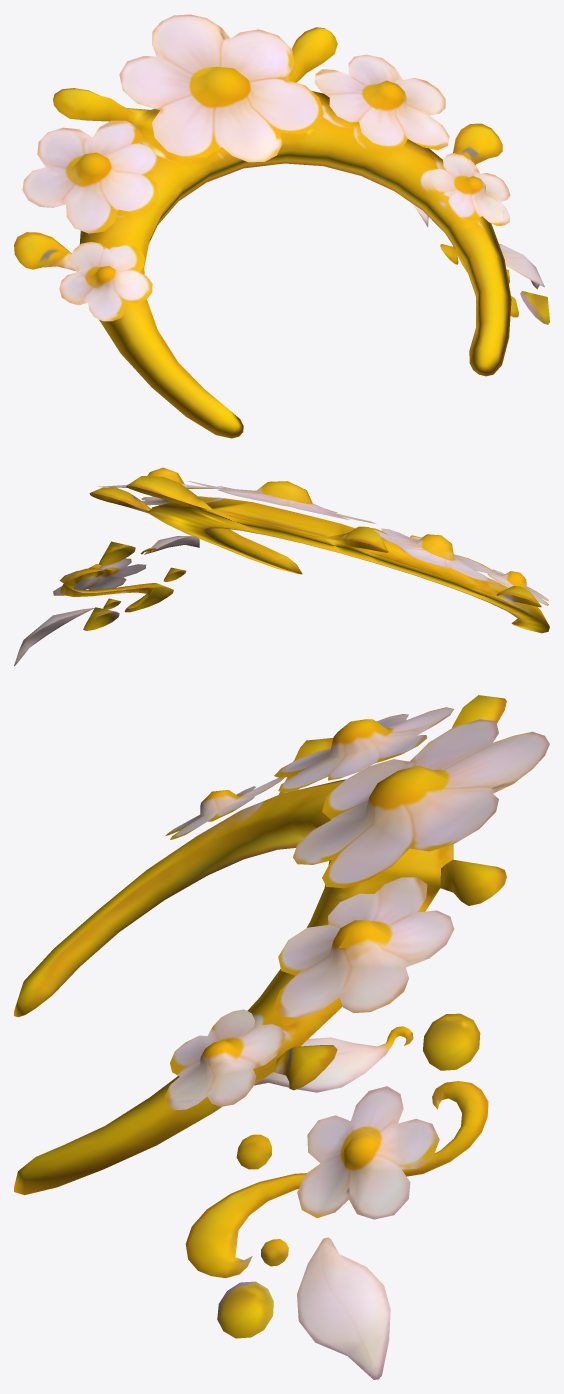
Rendered from DaisyChickWear.fbx.
3 renders of one model, top to bottom at view 1: azimuth 30°, elevation 25°; view 2: azimuth 150°, elevation 25°; view 3: azimuth 270°, elevation 25°, orthographic. The views are drawn at different scales.
Parts seen in each view (by area): view 1: Band, Clip; view 2: Band, Clip; view 3: Band, Clip.
Boxes of the visible parts, x1,y1,x2,y2 form: Band: [14, 14, 511, 438]; Clip: [412, 203, 549, 324]; Band: [89, 467, 549, 633]; Clip: [14, 536, 199, 666]; Band: [14, 695, 549, 1194]; Clip: [185, 1013, 488, 1379].
Bounding box in the file's own units: 0.8188 × 0.4345 × 0.4936.
Materials: 1 (1 with a texture image).
